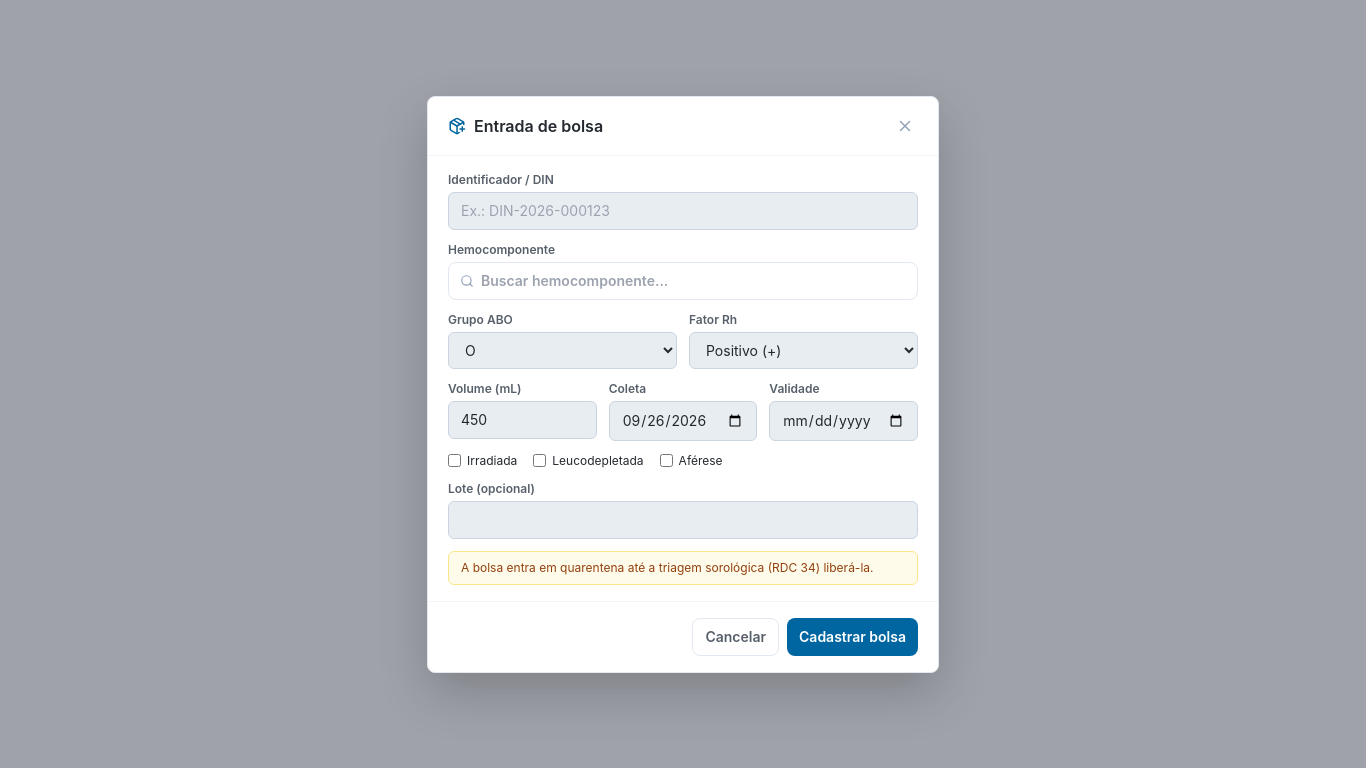
Test case: BloodBagEntryModal › validates required fields before posting
Click the button "Cadastrar bolsa".
click(852, 636)  # box top-left (787, 618), bottom-right (918, 656)
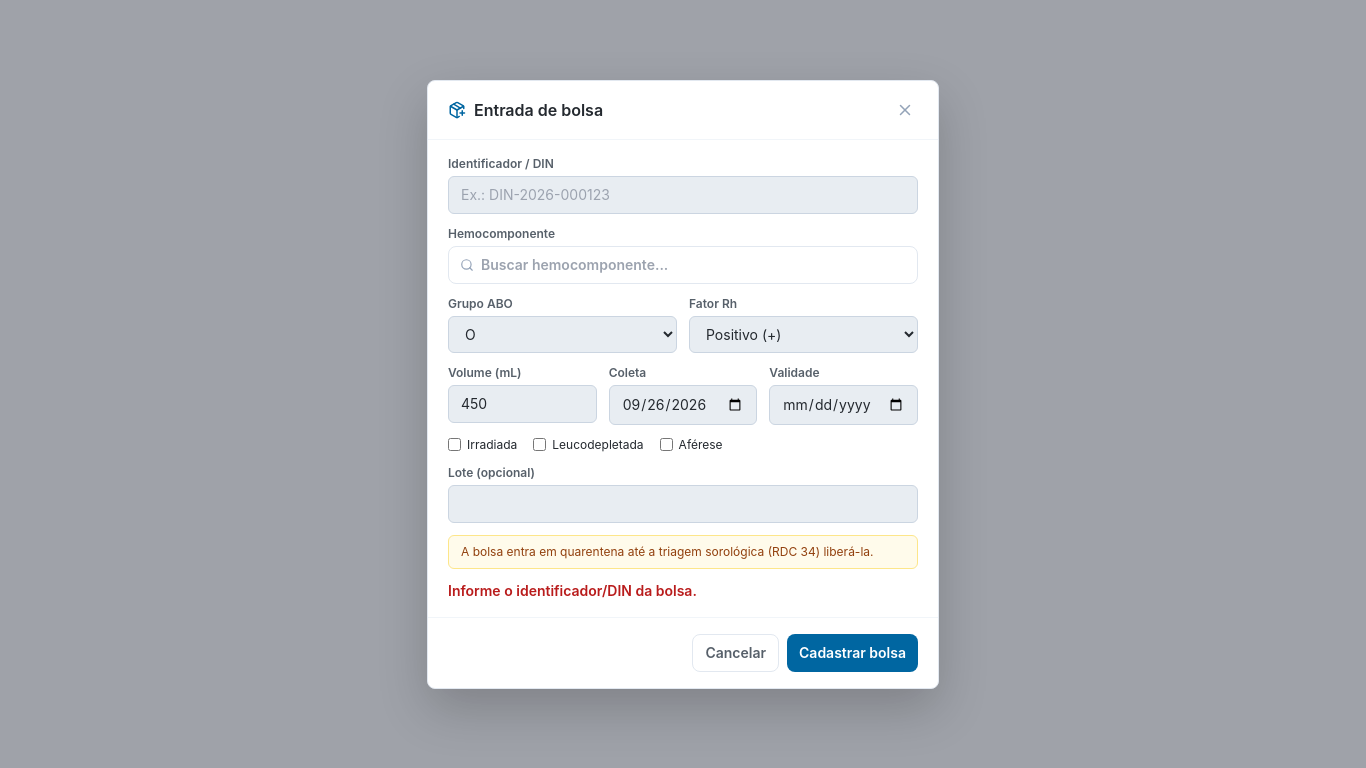
Expected: the text "Informe o identificador/DIN da bolsa." is shown, top-left (448, 582), bottom-right (697, 598)
